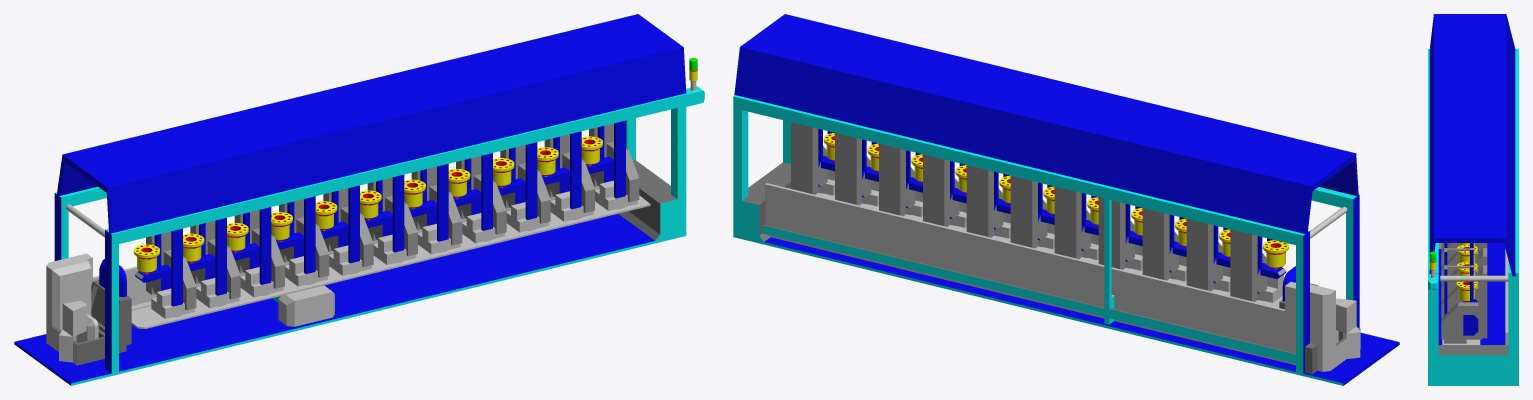
The model's file is 牢筒机.FBX.
3 views of the same model, side by side, from view 1: azimuth 30°, elevation 25°; view 2: azimuth 150°, elevation 25°; view 3: azimuth 270°, elevation 25° (orthographic). The views are drawn at different scales.
Visible parts, largest first — view 1: *SOL464, *SOL482, *SOL485, *SOL480, *SOL475, *SOL469, *SOL466, *SOL479, *SOL473, *SOL477, *SOL471, *SOL465 (+1 smaller); view 2: *SOL464, *SOL482, *SOL485, *SOL475, *SOL465, *SOL477, *SOL469, *SOL473, *SOL466, *SOL480, *SOL471, *SOL479 (+1 smaller); view 3: *SOL464, *SOL473, *SOL466, *SOL480, *SOL474, *SOL471, *SOL483, *SOL485, *SOL468.
Boxes of the visible parts, <box> form: *SOL464: <box>14,14,704,385</box>; *SOL482: <box>135,228,196,318</box>; *SOL485: <box>409,164,462,254</box>; *SOL480: <box>497,142,550,232</box>; *SOL475: <box>364,174,417,264</box>; *SOL469: <box>232,207,284,297</box>; *SOL466: <box>542,131,594,221</box>; *SOL479: <box>276,196,329,286</box>; *SOL473: <box>586,120,639,210</box>; *SOL477: <box>187,218,240,308</box>; *SOL471: <box>453,153,506,243</box>; *SOL465: <box>320,185,373,275</box>; *SOL464: <box>733,14,1399,385</box>; *SOL482: <box>1230,229,1286,302</box>; *SOL485: <box>966,165,1010,238</box>; *SOL475: <box>1010,176,1054,249</box>; *SOL465: <box>1054,186,1098,259</box>; *SOL477: <box>1186,219,1230,292</box>; *SOL469: <box>1142,208,1186,281</box>; *SOL473: <box>791,122,834,195</box>; *SOL466: <box>835,133,878,206</box>; *SOL480: <box>879,143,922,216</box>; *SOL471: <box>923,154,966,227</box>; *SOL479: <box>1098,197,1142,270</box>; *SOL464: <box>1428,14,1518,385</box>; *SOL473: <box>1441,265,1487,343</box>; *SOL466: <box>1441,248,1487,318</box>; *SOL480: <box>1441,243,1487,300</box>; *SOL474: <box>1456,281,1477,301</box>; *SOL471: <box>1441,251,1478,283</box>; *SOL483: <box>1456,244,1477,262</box>; *SOL485: <box>1441,243,1478,266</box>; *SOL468: <box>1457,261,1477,275</box>.
Bounding box in the file's own units: 50.79 × 14.2 × 7.87.
